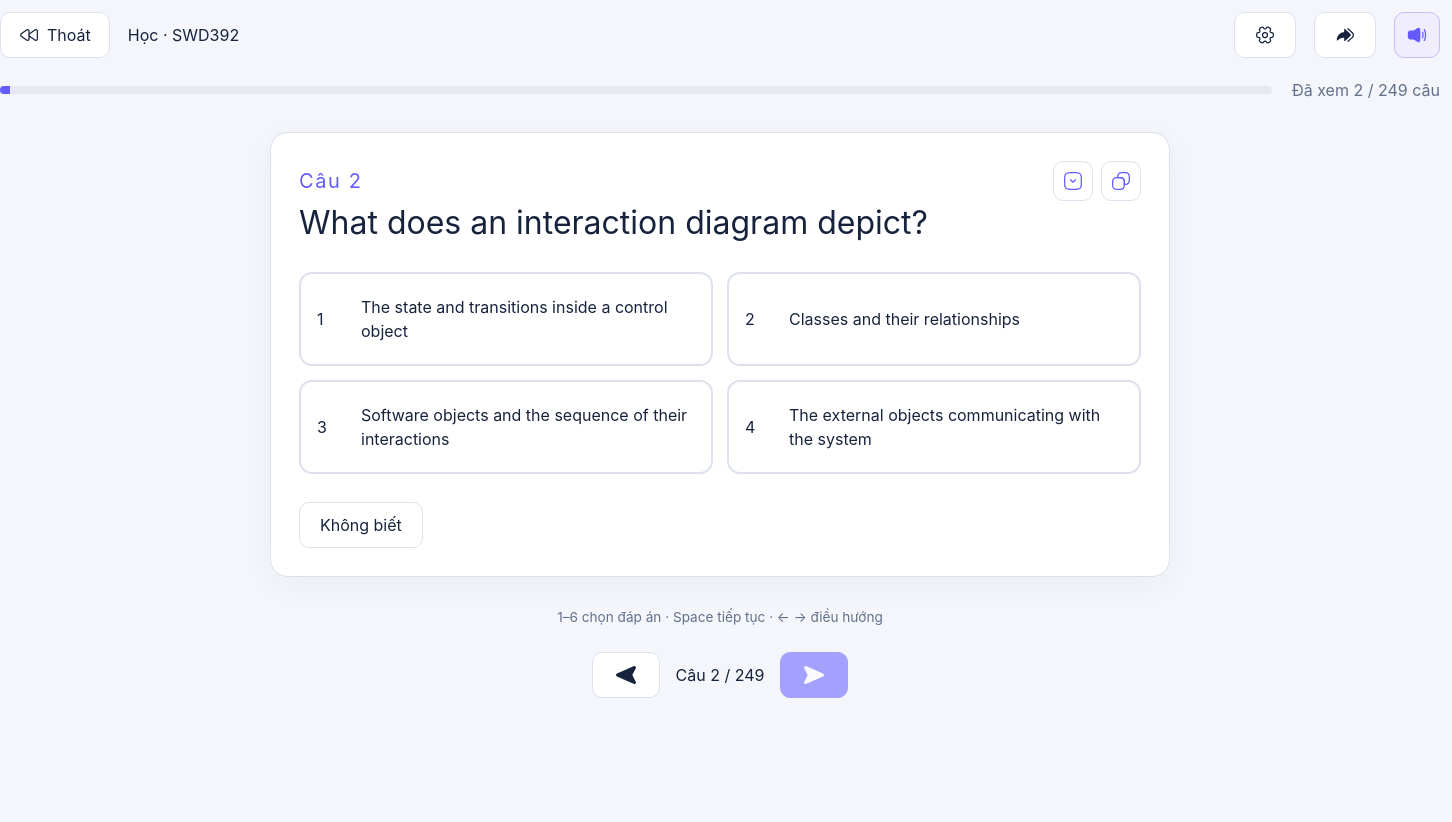
Test: StudyShell interactions and sound › accepts the same answer again when revisiting a historical question
Expected: the text "Câu 2" is shown, [299,166,362,196]
Click the button named "Trước" at (626, 675), box [592,652,660,698]
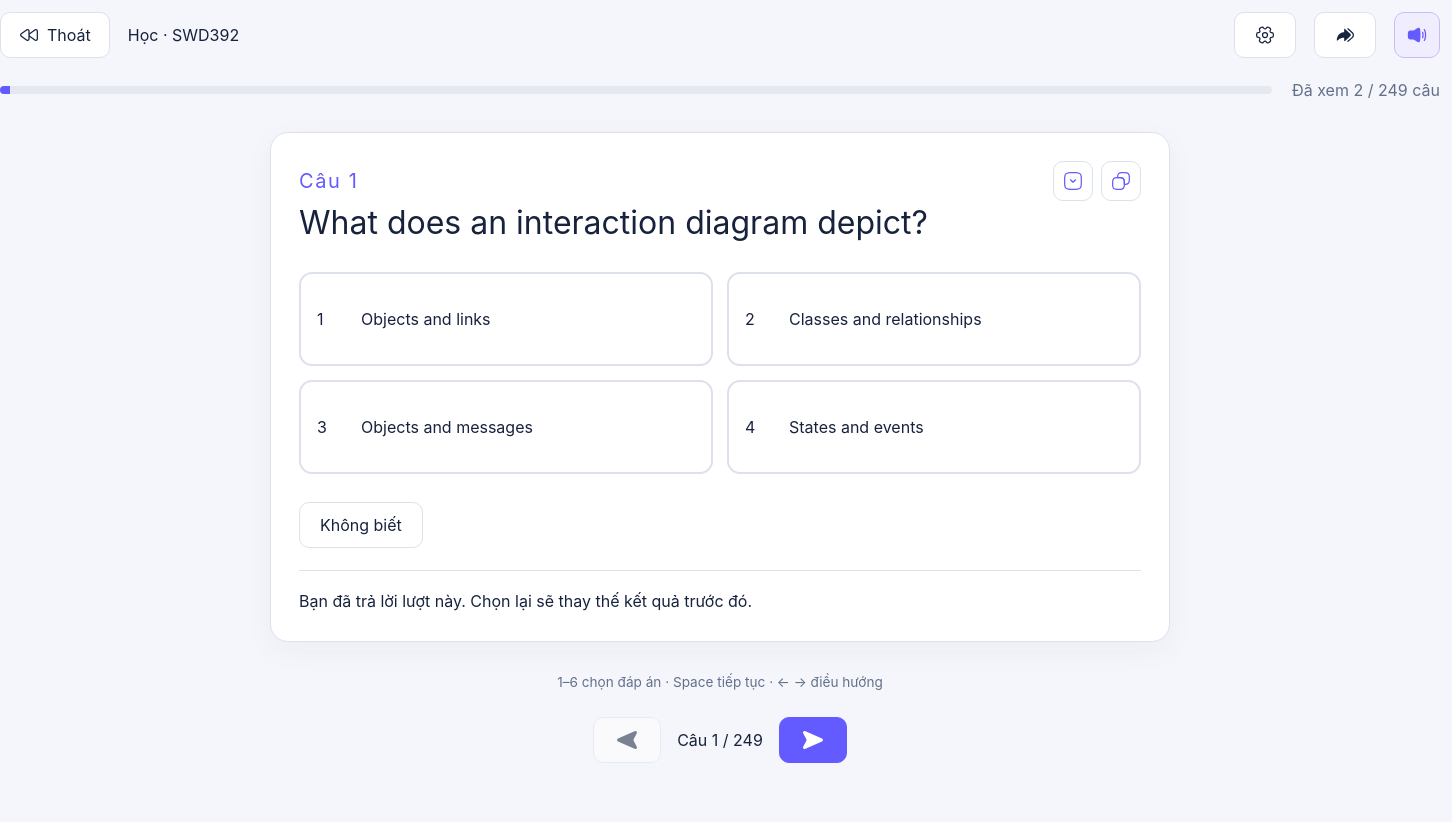
Press 3
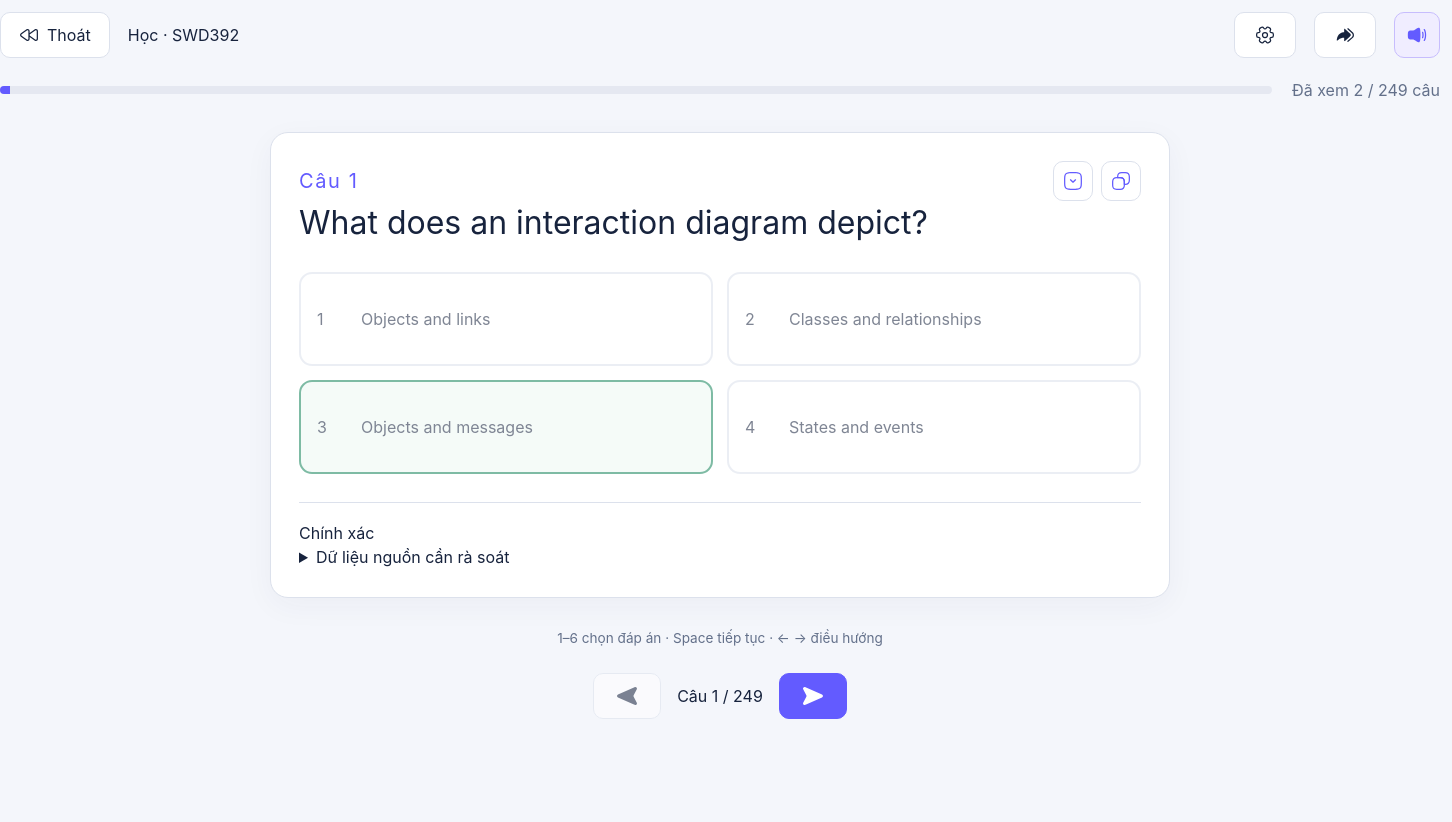
Now the heading "Chính xác" is shown, box [299,523,374,543]
